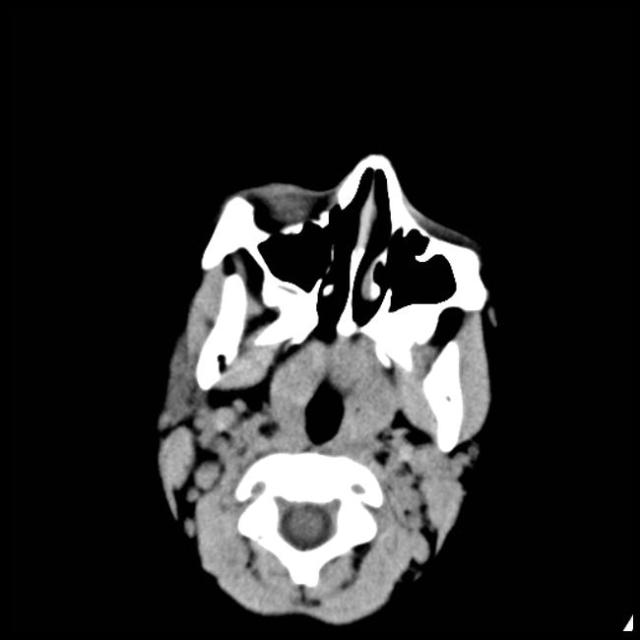lesion: (151, 149, 503, 628)
